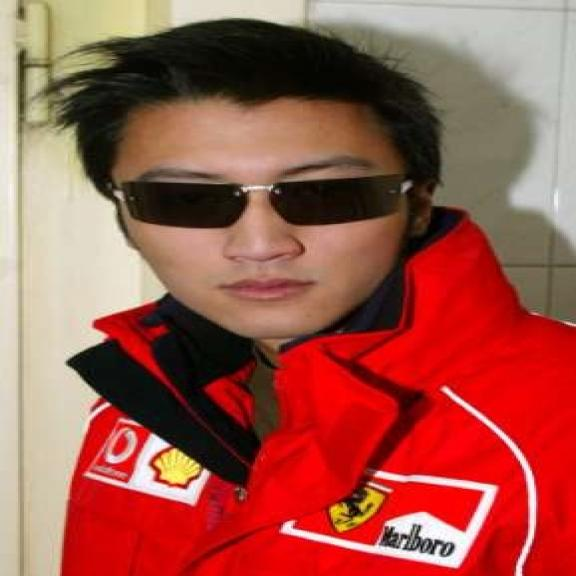face: (89, 91, 448, 342)
